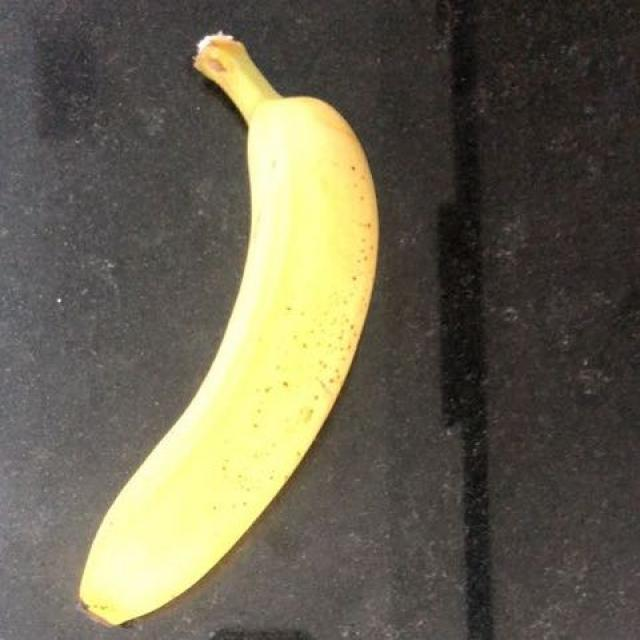banana: (81, 53, 378, 594)
